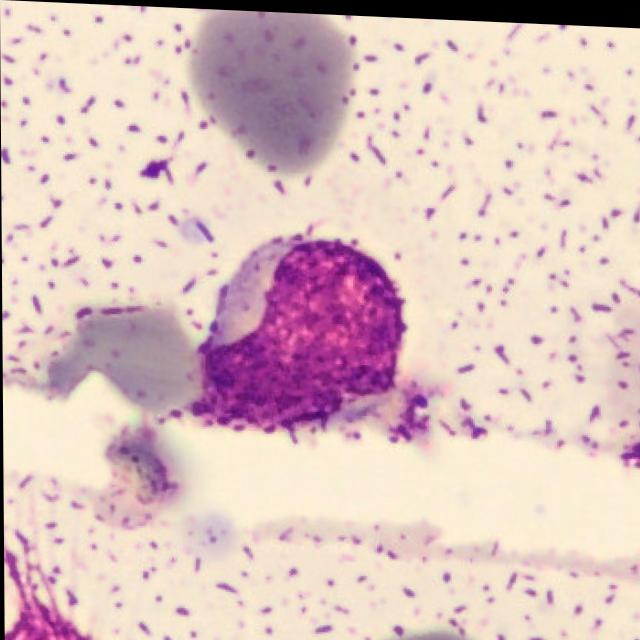Mieloblasto: (183, 230, 408, 434)
